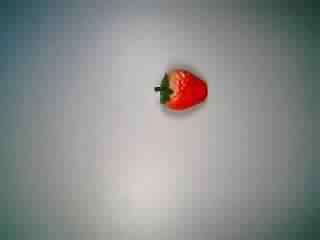strawberry: (149, 62, 211, 119)
